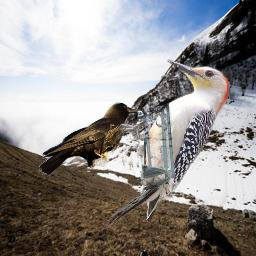Crow: (39, 100, 141, 178)
Woodpecker: (105, 57, 233, 229)
